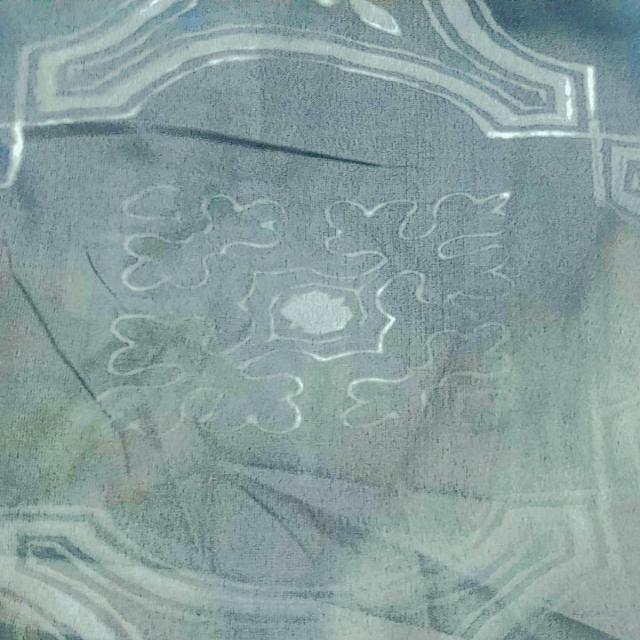baekra: (54, 142, 599, 620)
